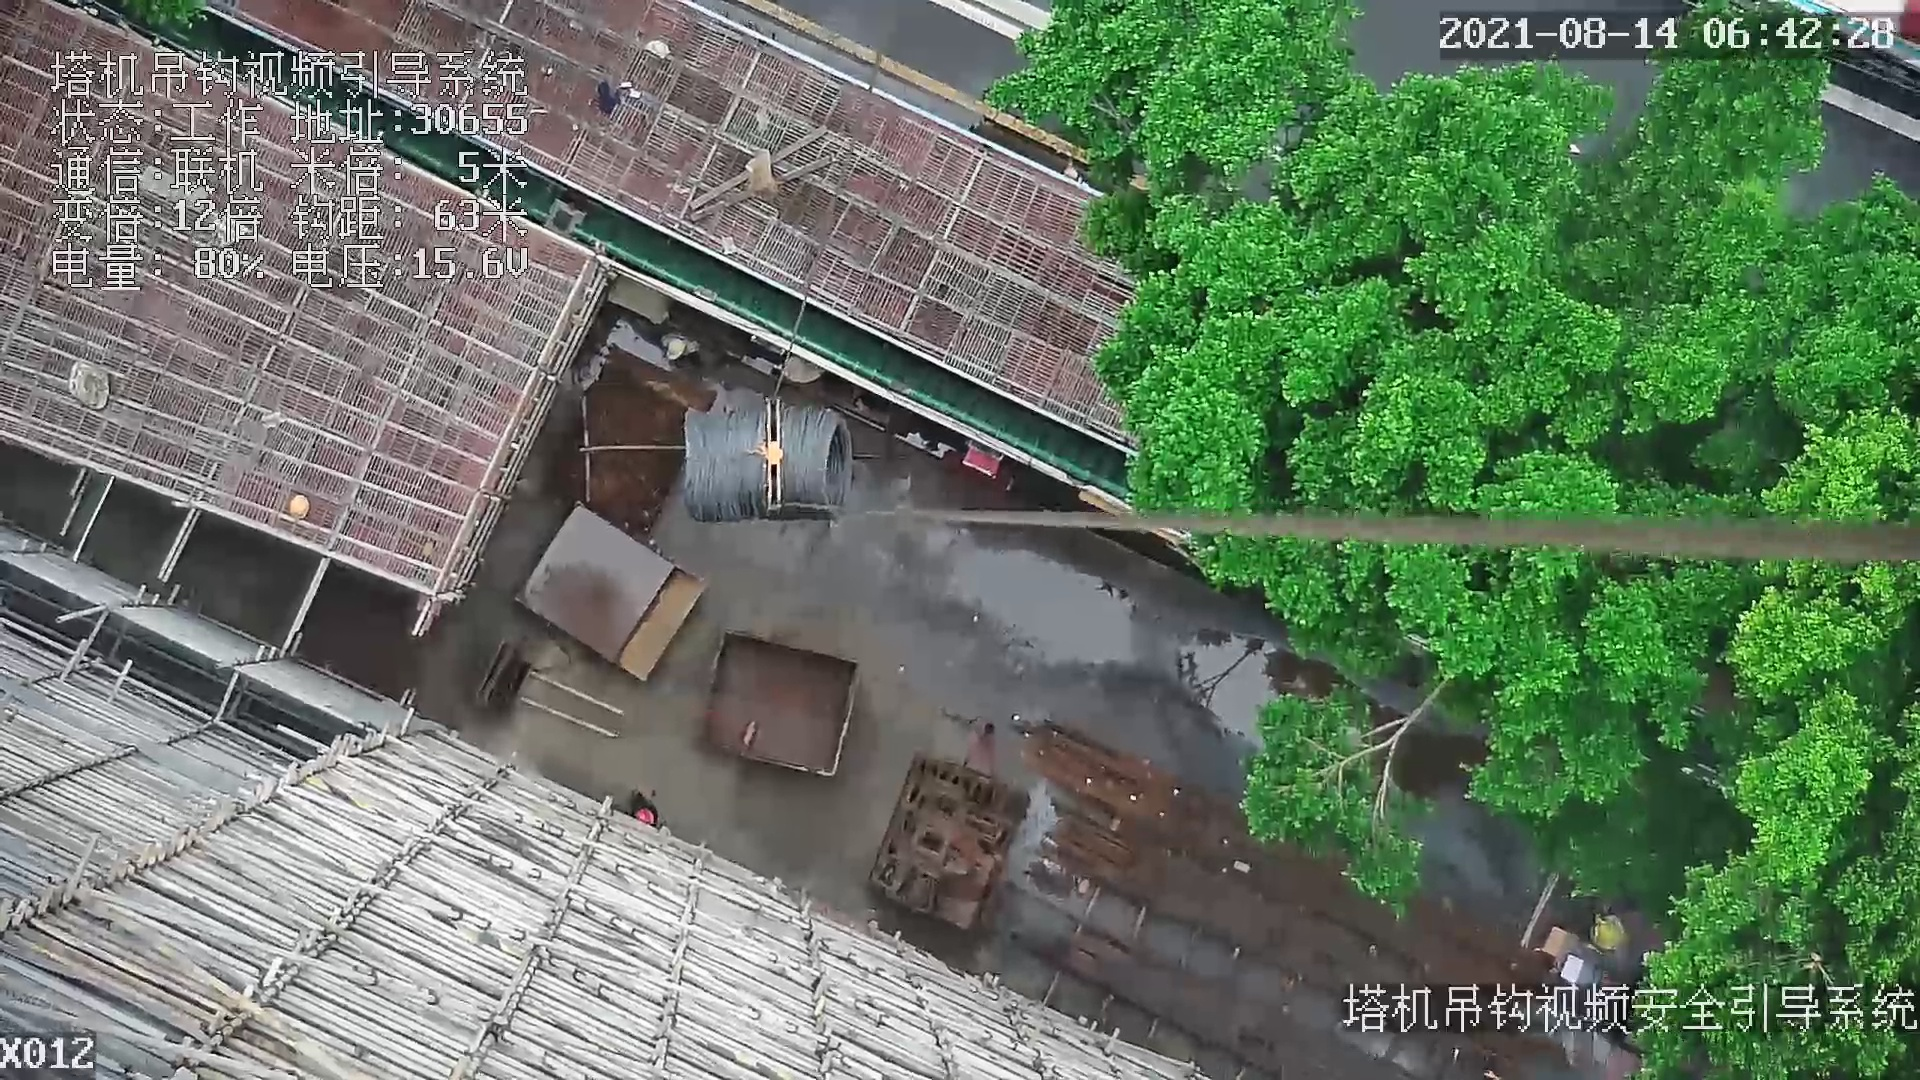hook: (750, 399, 787, 512)
person: (1585, 906, 1632, 958), (658, 328, 706, 367), (631, 787, 668, 836)
